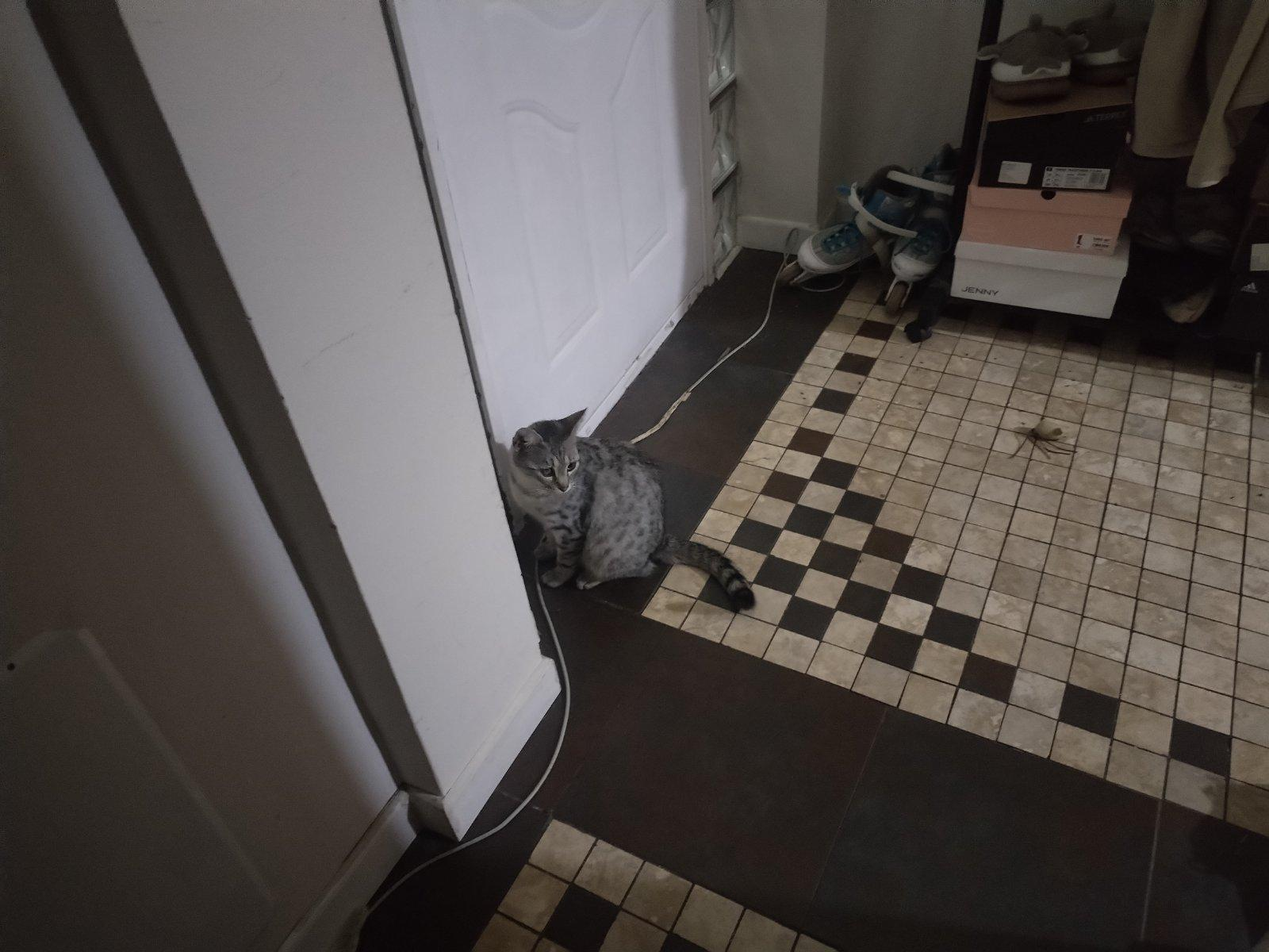macka: (506, 408, 761, 611)
